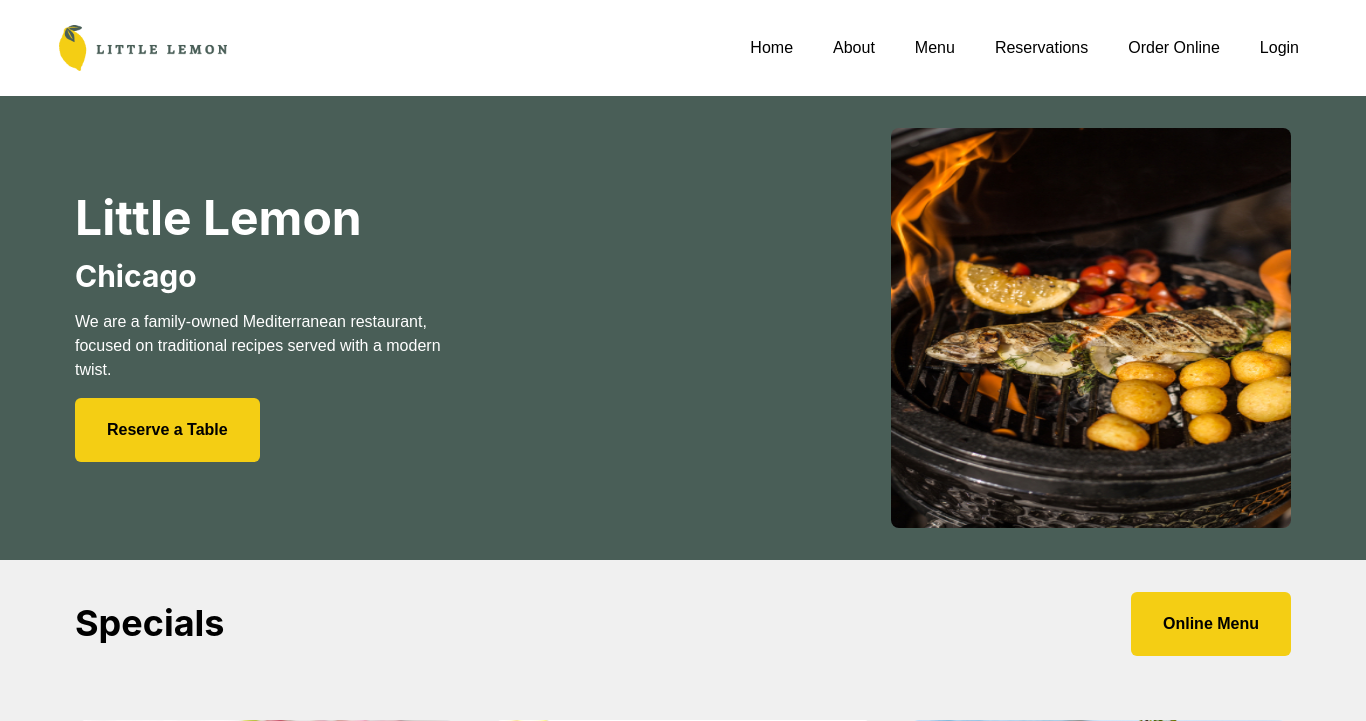
navigates to reservation page when clicking link
// Click a navigation link
What coordinates should you click on to do the following:
click the link "Reservations"
I would click on:
 (1042, 48)
Its box is 995,39 -> 1088,56.
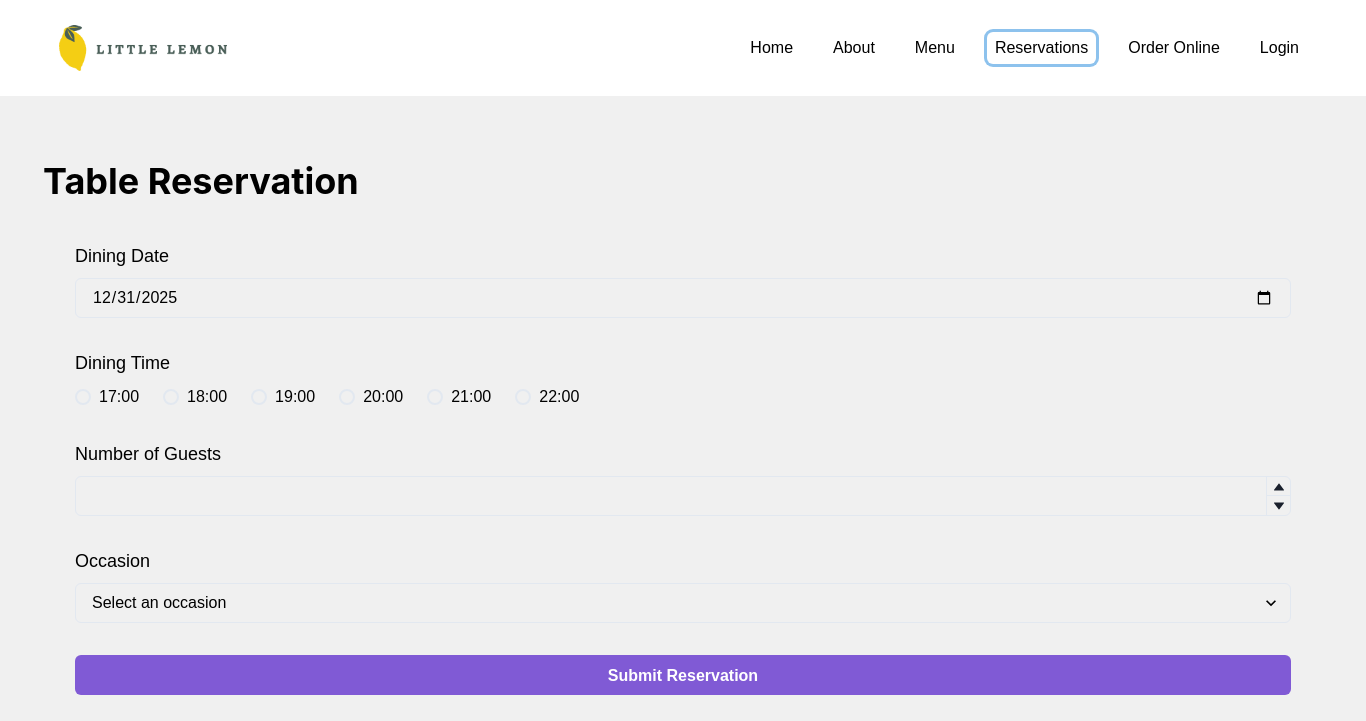
Expected: the heading "Table Reservation" is shown, 43,160 -> 359,203
